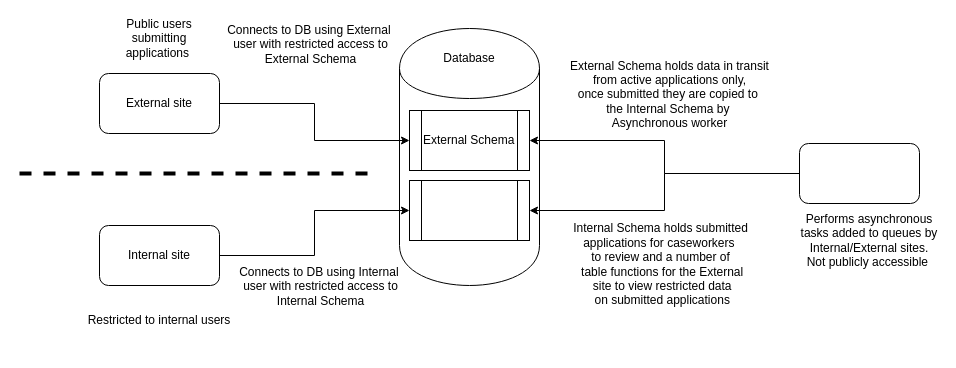
The diagram is 956 pixels wide and 368 high, and some of its shapes have lost their labels. The shapes that lost their labels are listed below. From the top down, each one's box as (x1, y1, x2, y2) in pixels, then its label:
(798, 142, 920, 204): Asynchronous worker
(408, 180, 530, 240): Internal Schema
